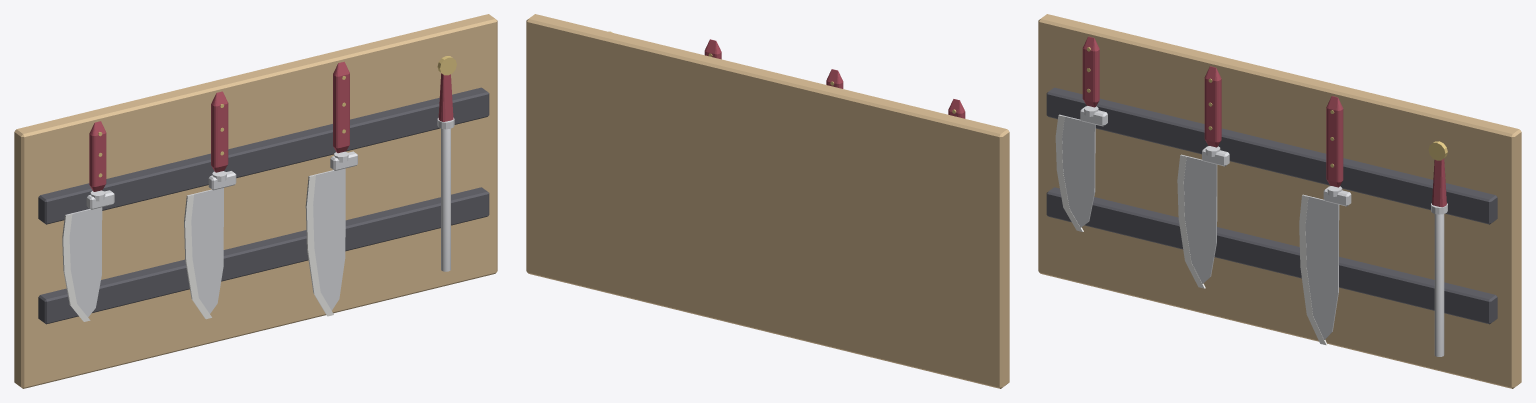
File: butchers-shop-and-deli-counter-knife-rack-9ec790df__34450.glb
3 renders of one model, left to right at view 1: azimuth 30°, elevation 25°; view 2: azimuth 150°, elevation 25°; view 3: azimuth 330°, elevation 25°, orthographic.
Visible parts, largest first — view 1: knife-rack; view 2: knife-rack; view 3: knife-rack.
Part boxes in pixels (<box>): knife-rack: <box>14,14,497,388</box>; knife-rack: <box>526,14,1009,388</box>; knife-rack: <box>1038,14,1521,388</box>.
Bounding box in the file's own units: 0.9 × 0.47 × 0.079.
